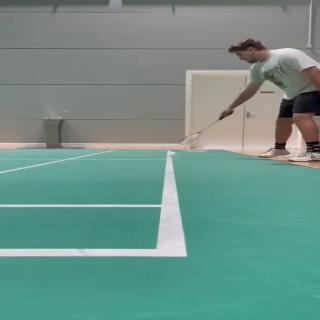Shuttle: (166, 152, 178, 157)
